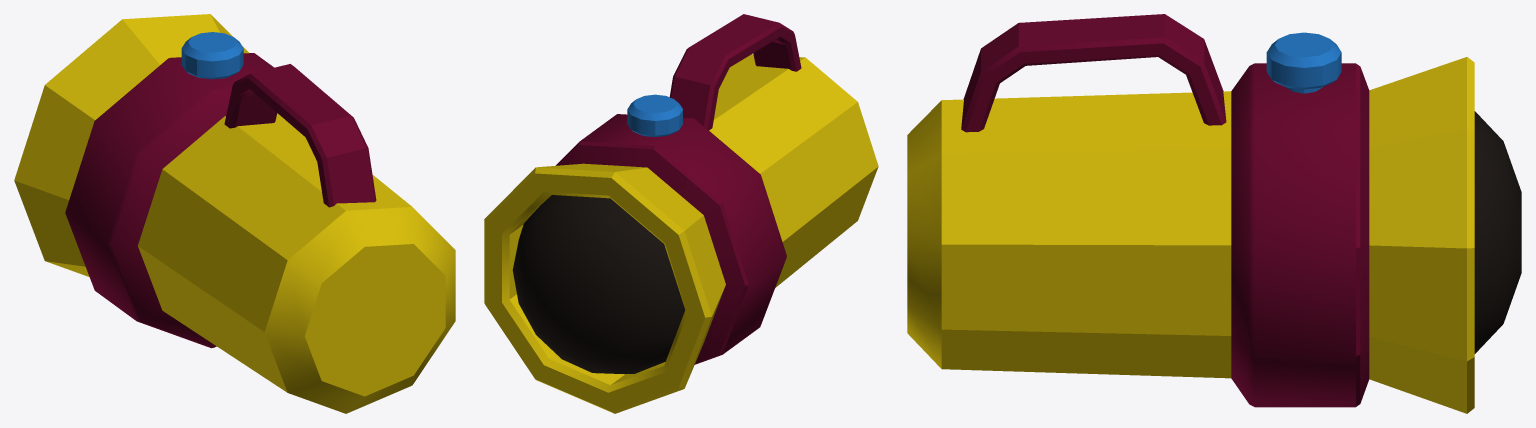
Rendered from Flashlight-2.FBX.
3 views of the same model, side by side, from view 1: azimuth 30°, elevation 25°; view 2: azimuth 150°, elevation 25°; view 3: azimuth 270°, elevation 25° (orthographic). The views are drawn at different scales.
Visible parts, largest first — view 1: Flashlight-2; view 2: Flashlight-2; view 3: Flashlight-2.
Boxes of the visible parts, x1,y1,x2,y2 form: Flashlight-2: (14,14,455,413); Flashlight-2: (484,14,878,413); Flashlight-2: (907,14,1521,413).
Bounding box in the file's own units: 655 × 1138 × 755.
